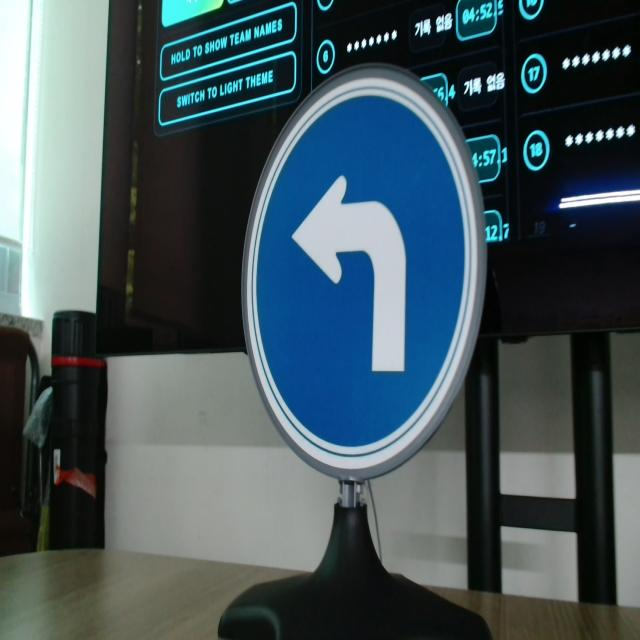left_direction: (238, 58, 488, 482)
